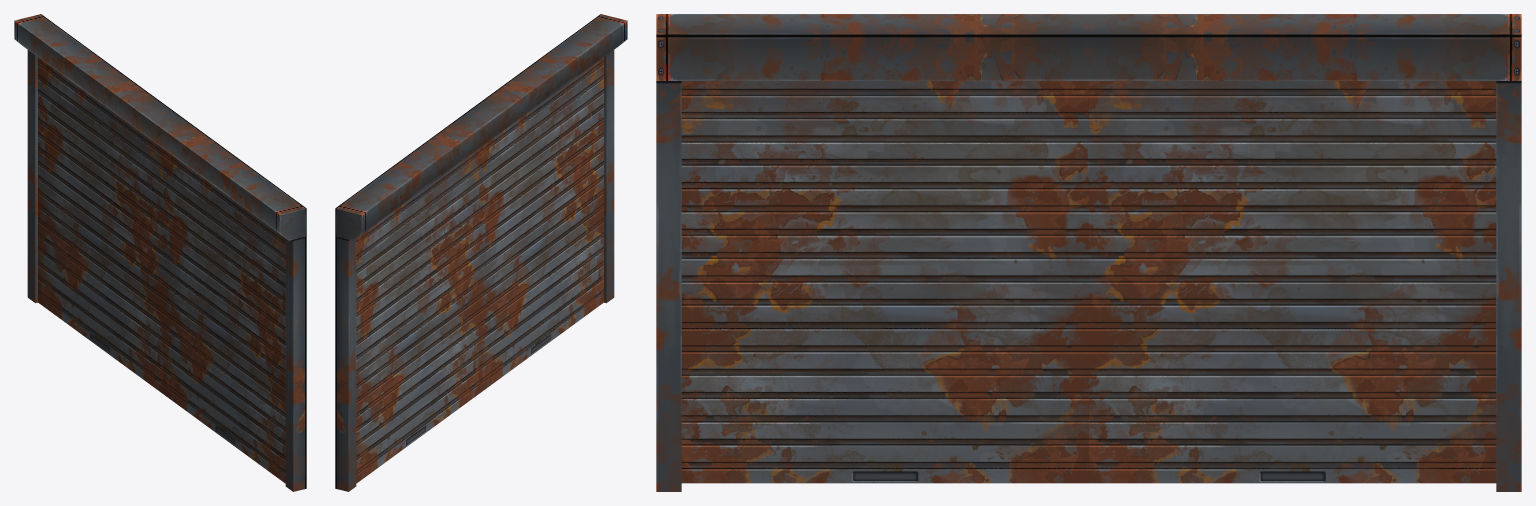
File: rollerShutter01_6m.fbx
3 views of the same model, side by side, from view 1: azimuth 30°, elevation 25°; view 2: azimuth 150°, elevation 25°; view 3: azimuth 270°, elevation 25° (orthographic). The views are drawn at different scales.
Visible parts, largest first — view 1: rollerShutter01_6m; view 2: rollerShutter01_6m; view 3: rollerShutter01_6m.
Part boxes in pixels (x1,y1,x2,y2): rollerShutter01_6m: (14, 14, 306, 491); rollerShutter01_6m: (335, 14, 627, 491); rollerShutter01_6m: (656, 14, 1521, 491).
Size of the model in its own units: 30 by 300 by 515.
